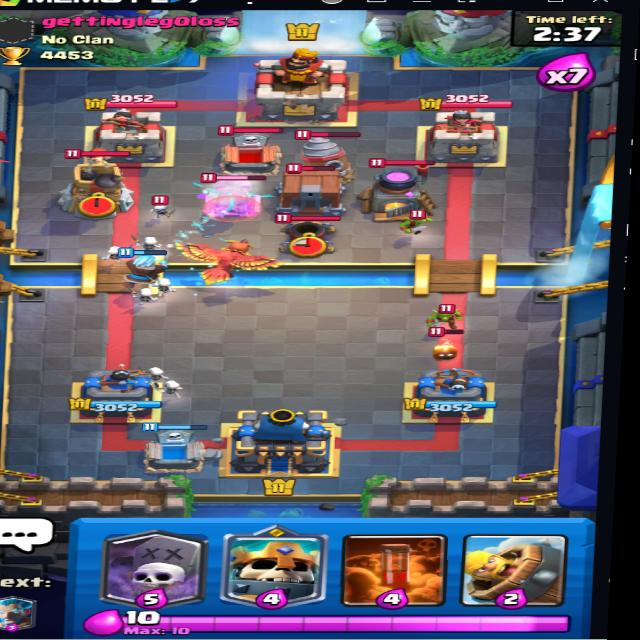bomb-tower: (52, 146, 139, 214)
fire-spirit: (431, 330, 463, 358)
furnace: (363, 155, 439, 223)
goblin: (397, 202, 436, 232), (427, 301, 465, 329)
goblin-cage: (267, 163, 349, 216)
goblin-drill: (293, 124, 366, 178)
mortar: (269, 212, 342, 256)
skeleton: (144, 192, 180, 218)
tesla: (189, 166, 265, 220)
tombstone: (210, 122, 289, 172)
